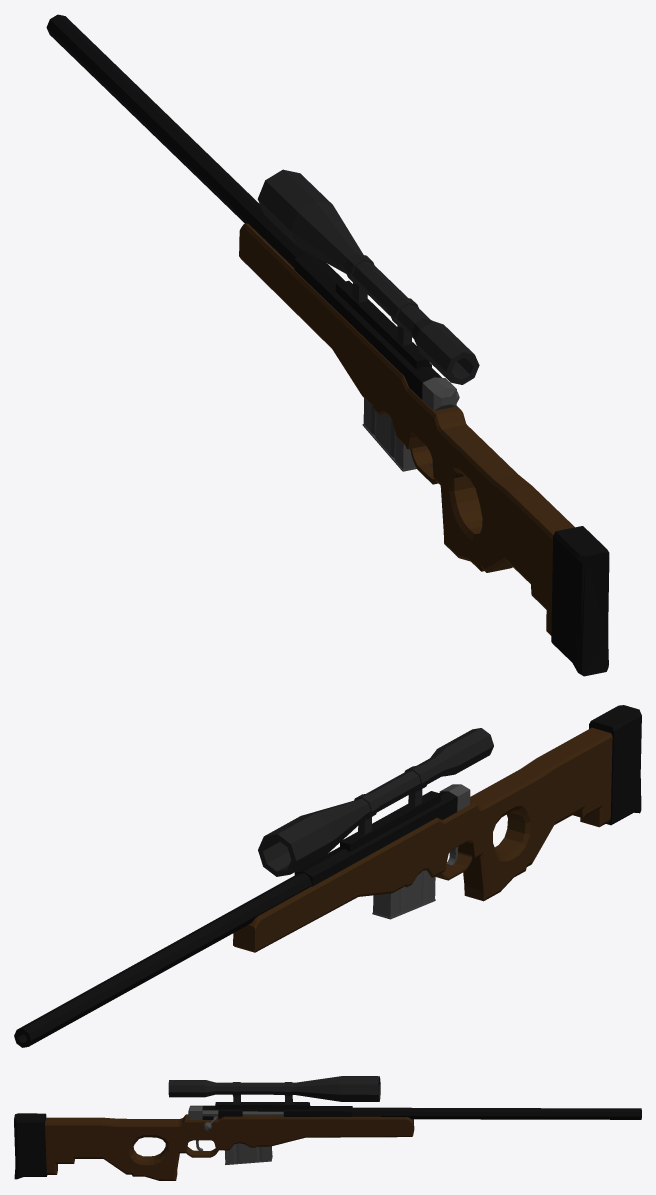
File: w_awp.glb
3 views of the same model, one above another, from view 1: azimuth 30°, elevation 25°; view 2: azimuth 150°, elevation 25°; view 3: azimuth 270°, elevation 25° (orthographic). The views are drawn at different scales.
Visible parts, largest first — view 1: gun; view 2: gun; view 3: gun.
Boxes of the visible parts, x1=… form: gun: x1=46, y1=14, x2=609, y2=676; gun: x1=14, y1=705, x2=641, y2=1047; gun: x1=14, y1=1076, x2=641, y2=1180.
Bounding box in the file's own units: 0.343 × 0.6472 × 3.27.
